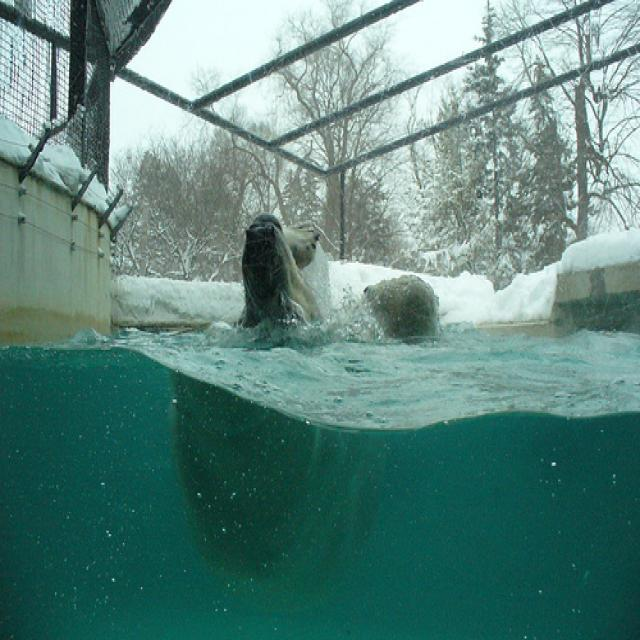Bear: (146, 192, 397, 576)
